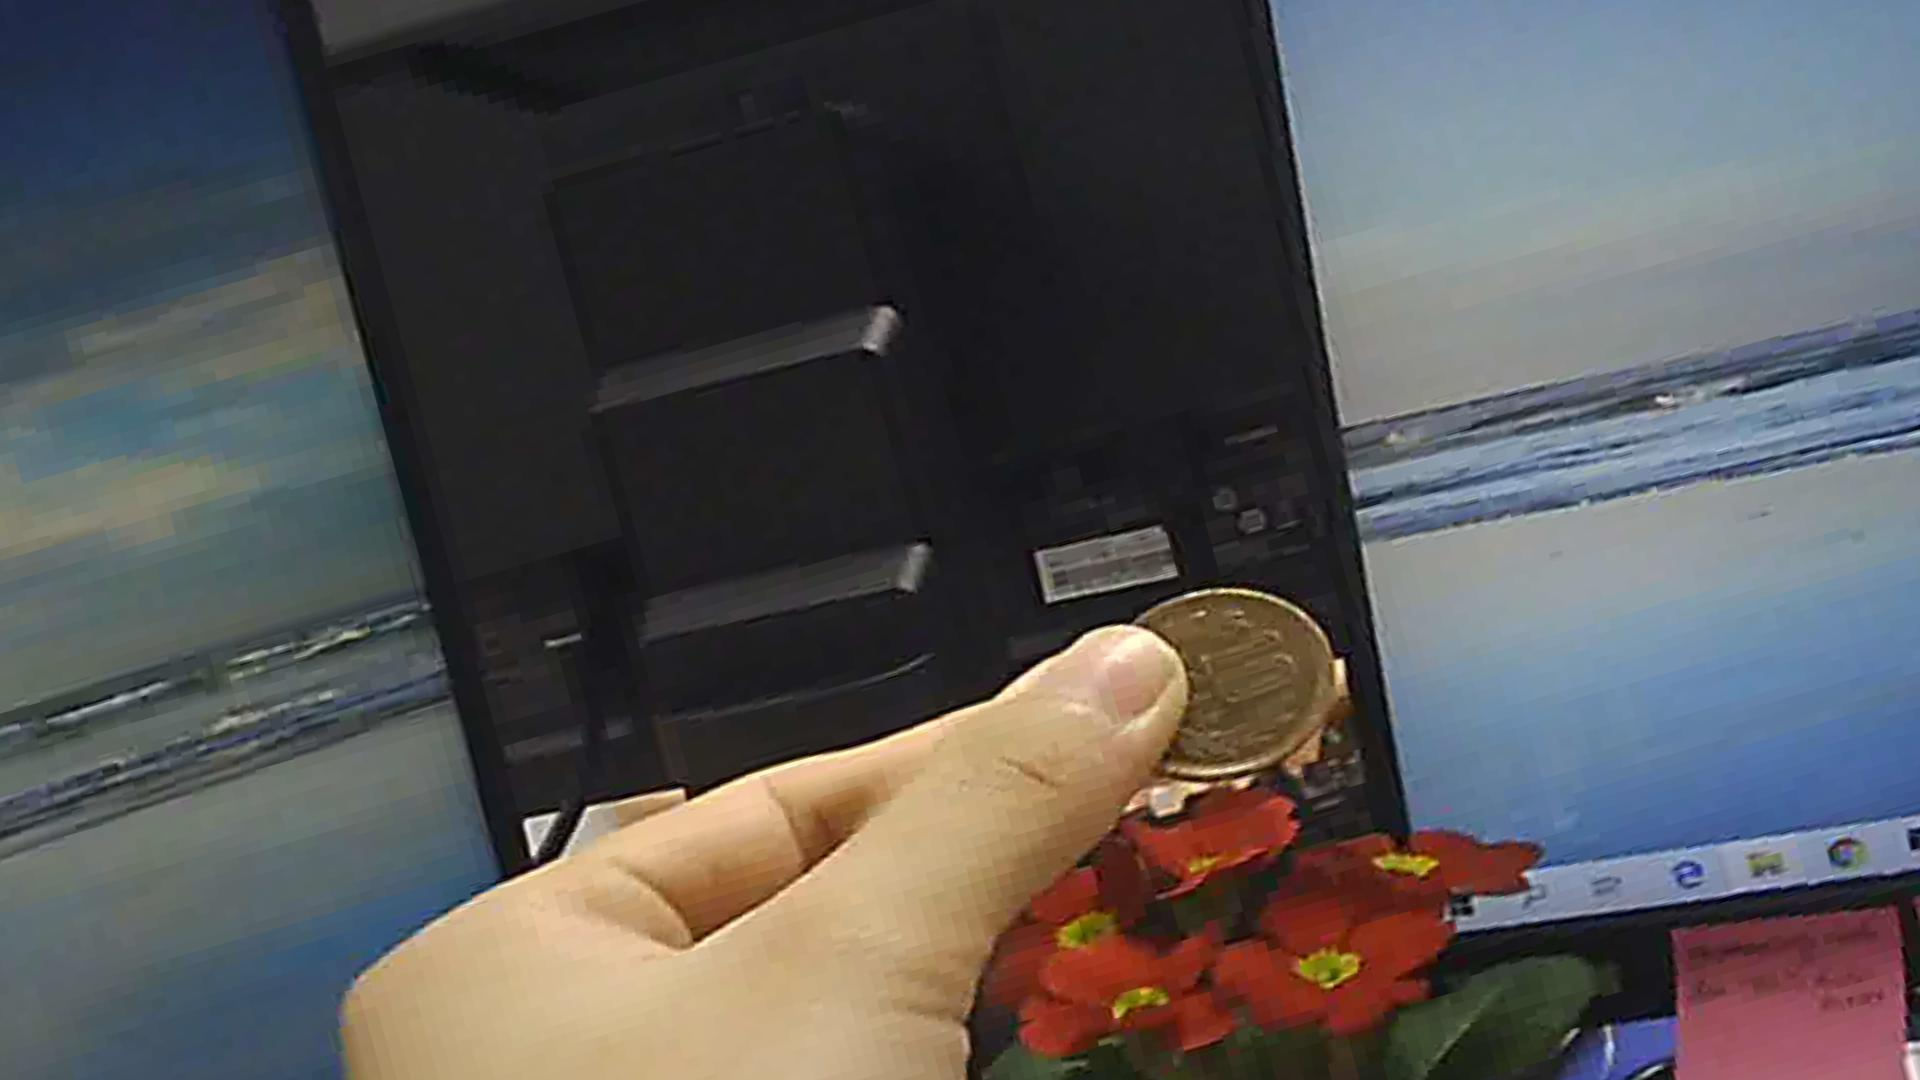10 Yen: (1105, 583, 1331, 798)
